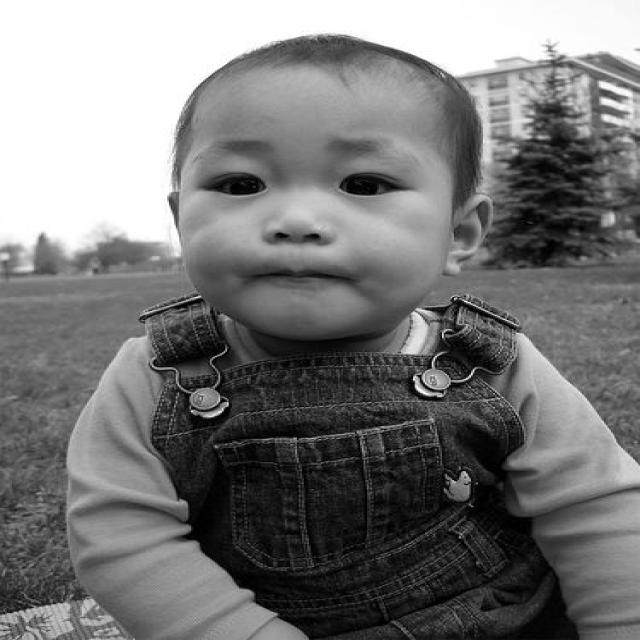person: (70, 34, 640, 640)
